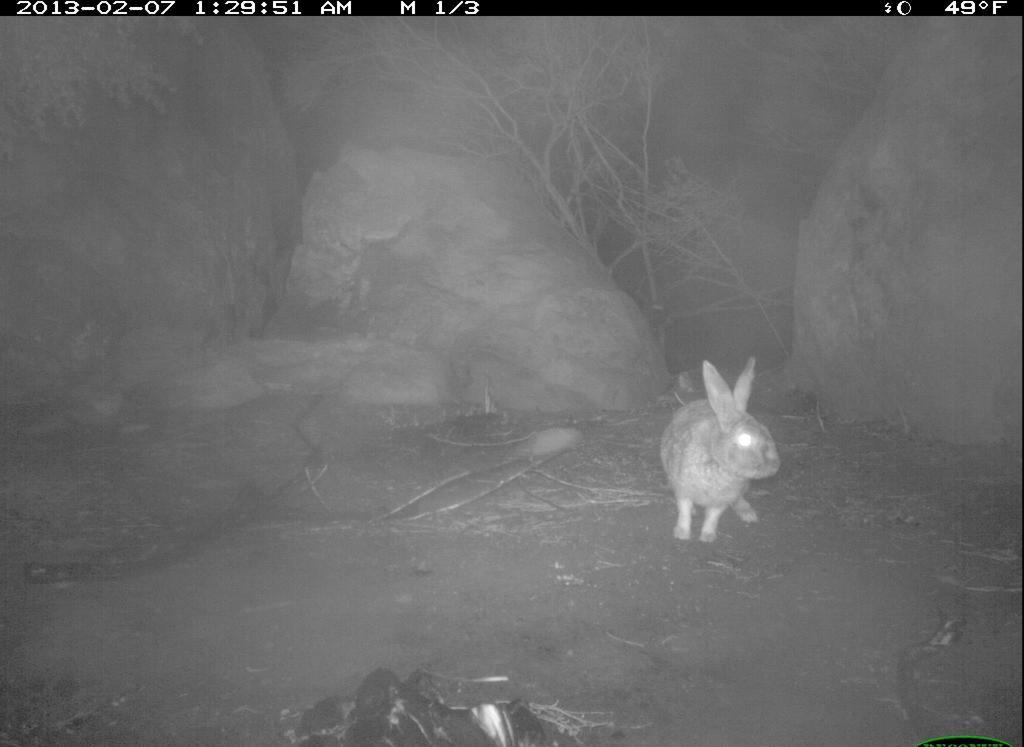rabbit: (638, 355, 792, 568)
